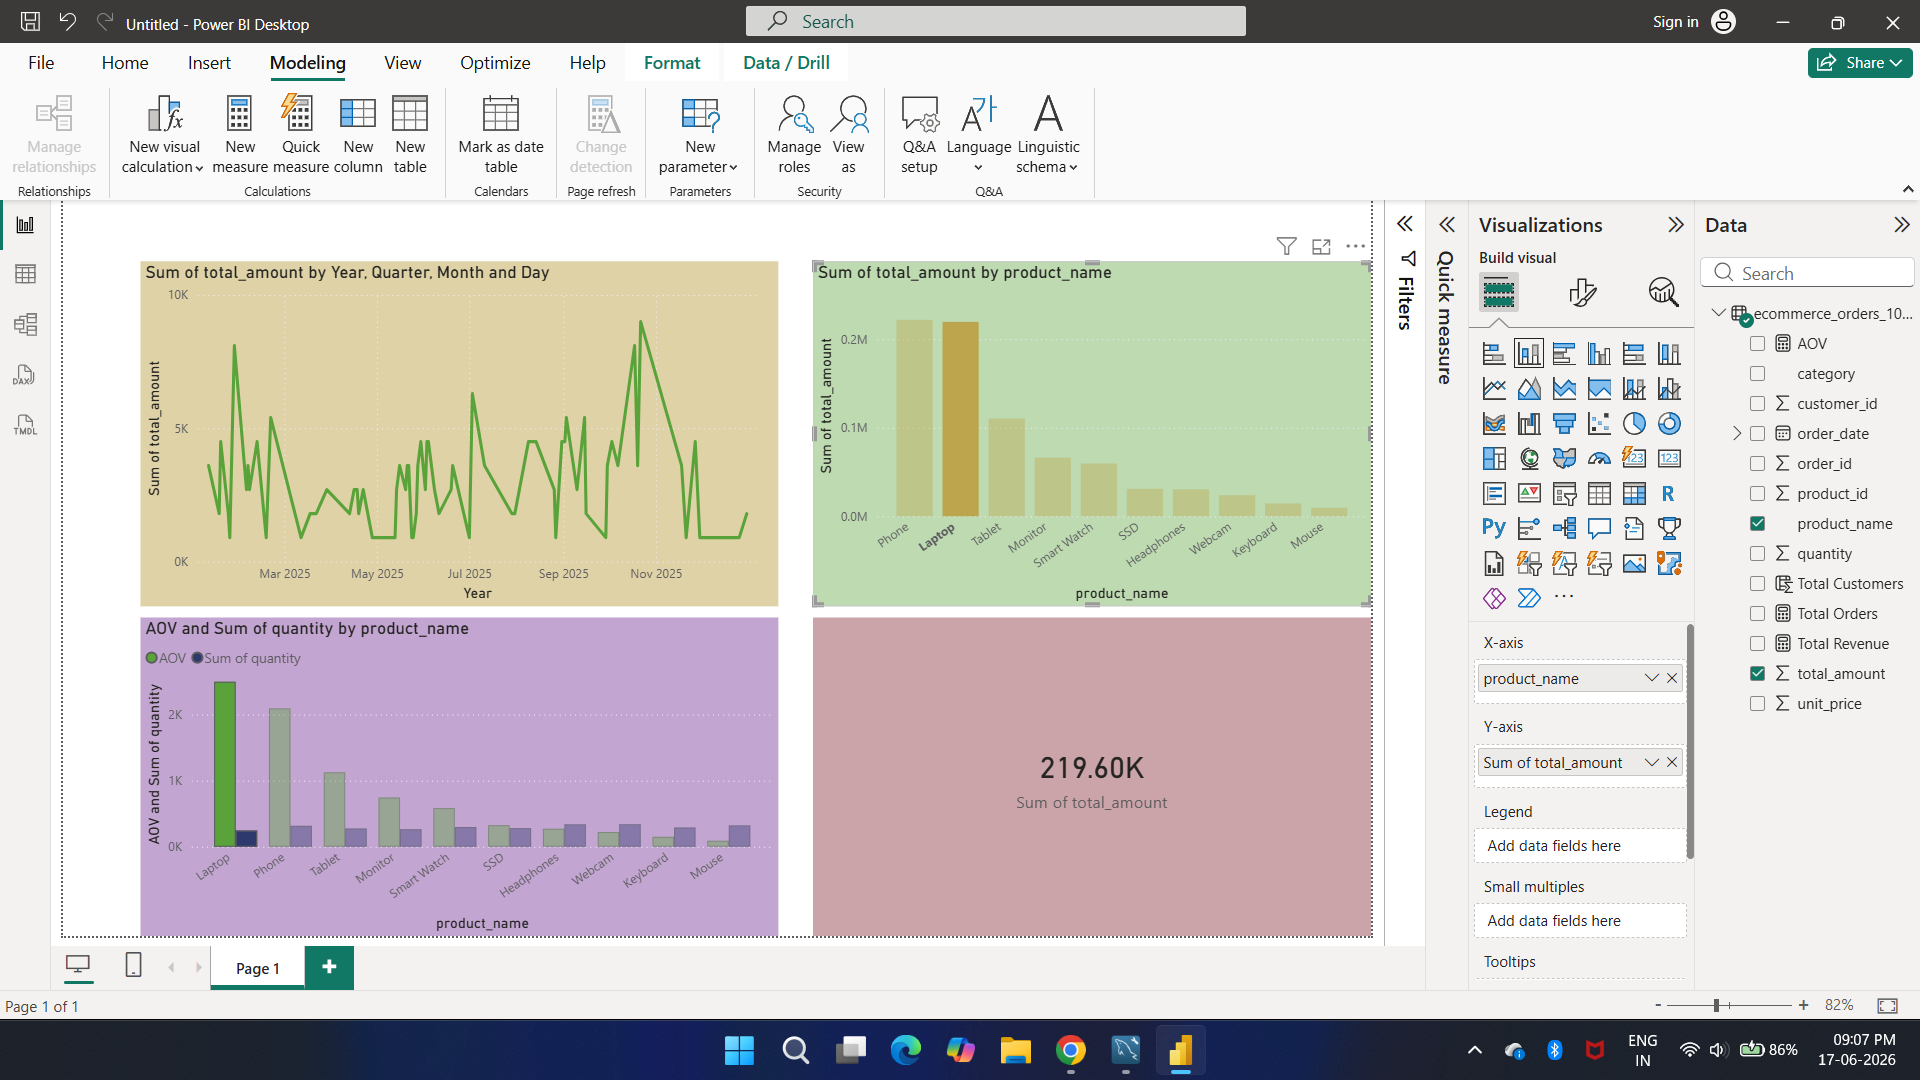

The page's visual inventory and layout, read from the dashboard file:
{"tool":"powerbi","page":{"name":"Page 1","canvas":[1280,720],"ordinal":0},"visuals":[{"type":"lineChart","fields":{"Y":["Sum(ecommerce_orders_1000.total_amount)"],"Category":["ecommerce_orders_1000.order_date.Variation.Date Hierarchy.Year","ecommerce_orders_1000.order_date.Variation.Date Hierarchy.Quarter","ecommerce_orders_1000.order_date.Variation.Date Hierarchy.Month","ecommerce_orders_1000.order_date.Variation.Date Hierarchy.Day"]},"box":[75.5,59.9,624.3,337.8],"z":2},{"type":"columnChart","fields":{"Y":["Sum(ecommerce_orders_1000.total_amount)"],"Category":["ecommerce_orders_1000.product_name"]},"box":[733.7,59.9,546.6,337.5],"z":3},{"type":"clusteredColumnChart","fields":{"Y":["ecommerce_orders_1000.AOV","Sum(ecommerce_orders_1000.quantity)"],"Category":["ecommerce_orders_1000.product_name"]},"box":[76,408,624,312],"z":4},{"type":"card","fields":{"Values":["Sum(ecommerce_orders_1000.total_amount)"]},"box":[734,408,546,312],"z":5}]}

Visuals, with their boxes on the page's 1280x720 design canvas (x1, y1, x2, y2). These are canvas units, not pixel positions in the 1920x1080 screenshot, which may show the page scaled, cropped or inside an application window:
lineChart - Sum(ecommerce_orders_1000.total_amount) x ecommerce_orders_1000.order_date.Variation.Date Hierarchy.Year: x1=76, y1=60, x2=700, y2=398
columnChart - Sum(ecommerce_orders_1000.total_amount) x ecommerce_orders_1000.product_name: x1=734, y1=60, x2=1280, y2=397
clusteredColumnChart - ecommerce_orders_1000.AOV x Sum(ecommerce_orders_1000.quantity): x1=76, y1=408, x2=700, y2=720
card - Sum(ecommerce_orders_1000.total_amount): x1=734, y1=408, x2=1280, y2=720
